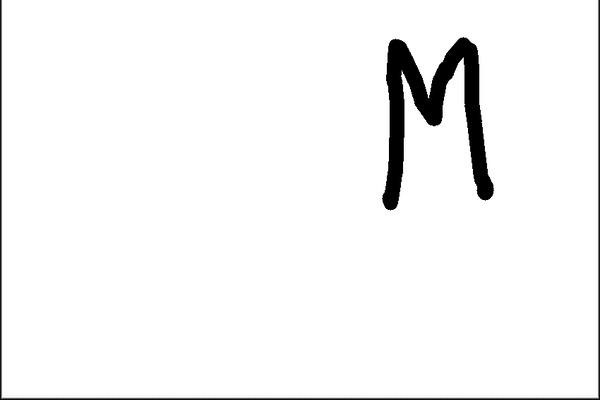M: (380, 29, 493, 209)
